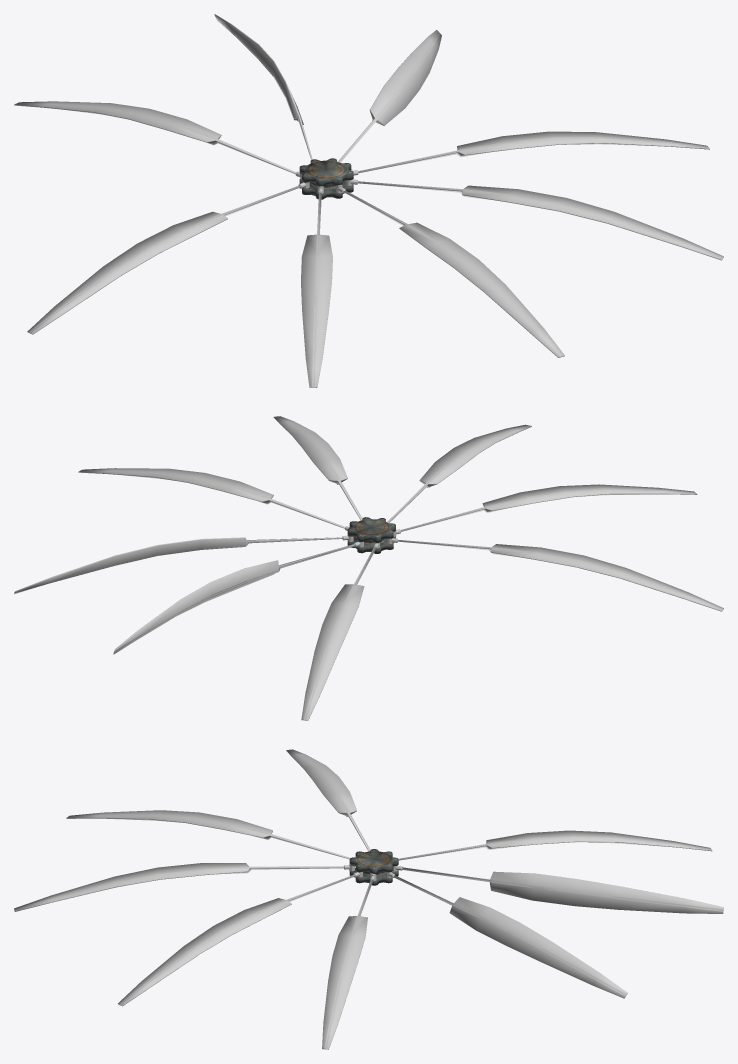
Rendered from SolarAssembly.fbx.
3 renders of one model, top to bottom at view 1: azimuth 30°, elevation 25°; view 2: azimuth 150°, elevation 25°; view 3: azimuth 270°, elevation 25°, orthographic. The views are drawn at different scales.
Parts seen in each view (by area): view 1: Circle.004; view 2: Circle.004; view 3: Circle.004.
Boxes of the visible parts, x1,y1,x2,y2 form: Circle.004: (14, 14, 723, 387); Circle.004: (14, 416, 723, 720); Circle.004: (14, 749, 723, 1049).
Bounding box in the file's own units: 11405 × 864 × 11430.
